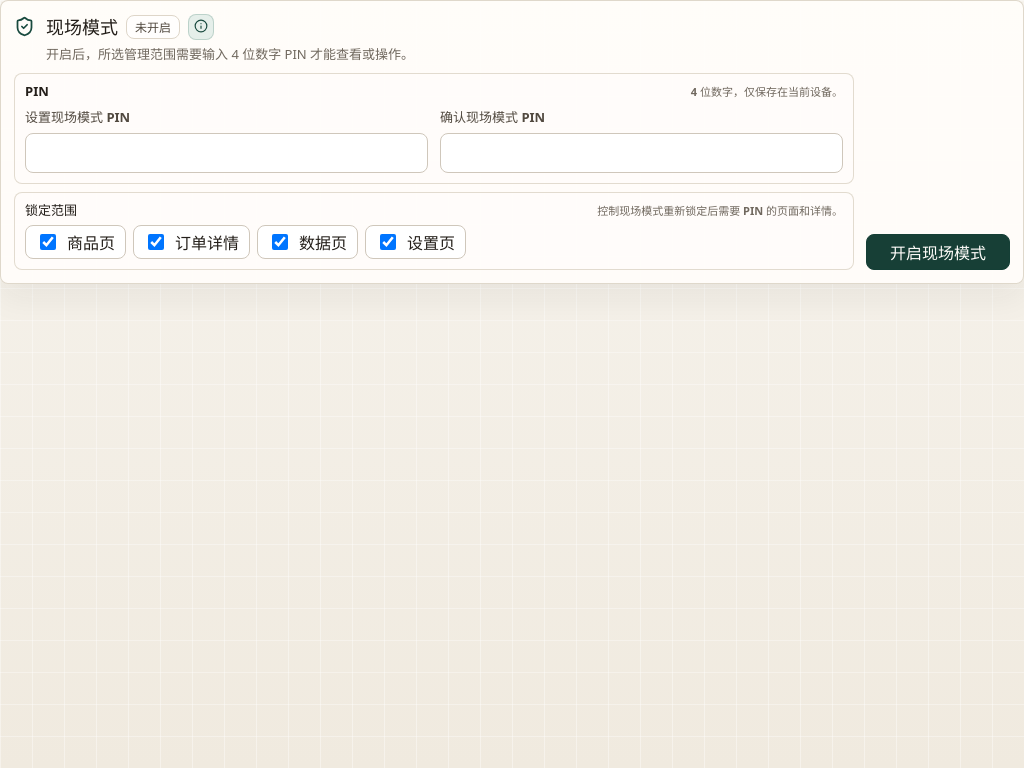
Test case: explains temporary unlock state and relock paths from field mode help
This screenshot has width=1024, height=768.
Click the button named "查看现场模式说明" at (201, 27), box [188,14,214,40]
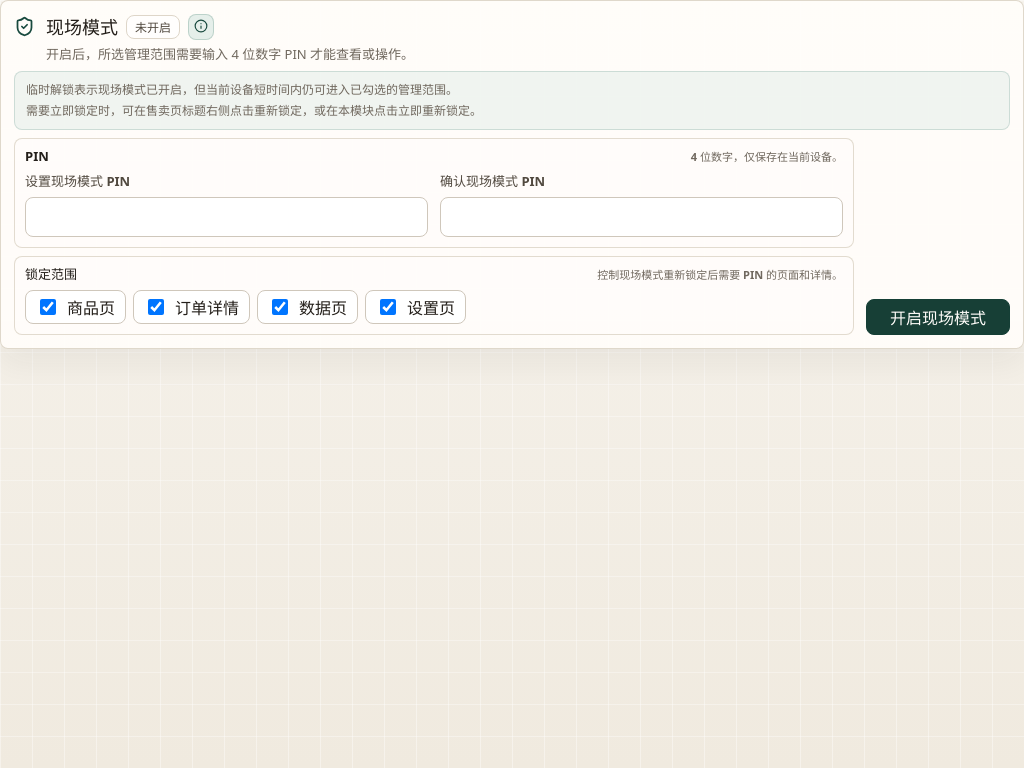
Check: the text "临时解锁表示现场模式已开启，但当前设备短时间内仍可进入已勾选的管理范围。" is shown, box [26,81,458,98]
Check: the text "需要立即锁定时，可在售卖页标题右侧点击重新锁定，或在本模块点击立即重新锁定。" is shown, box [26,102,482,119]
